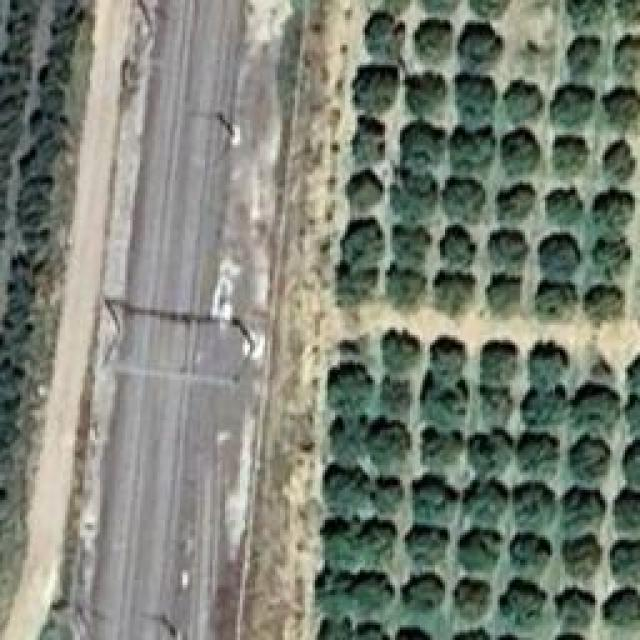Tree: (460, 478, 507, 526), (355, 63, 401, 112), (395, 120, 442, 167), (460, 23, 505, 72), (450, 125, 495, 174), (555, 87, 601, 134), (422, 377, 467, 424), (362, 12, 407, 58), (340, 222, 385, 268), (443, 178, 483, 229), (325, 518, 366, 567), (330, 415, 370, 465), (408, 523, 449, 571), (393, 170, 436, 215), (407, 478, 452, 521), (500, 130, 542, 176), (415, 15, 452, 66), (333, 267, 374, 313), (460, 527, 500, 574), (370, 423, 413, 466), (597, 184, 640, 227), (503, 80, 545, 124), (435, 230, 477, 273), (380, 330, 423, 372), (350, 112, 388, 159), (368, 472, 406, 519), (478, 338, 520, 380), (593, 237, 632, 282), (328, 468, 368, 511), (435, 273, 474, 317), (455, 75, 491, 122), (328, 368, 369, 409), (386, 223, 428, 263), (353, 573, 392, 616), (385, 268, 426, 308), (540, 235, 581, 275), (428, 338, 469, 378), (408, 73, 447, 115), (483, 275, 522, 317), (538, 280, 577, 322), (573, 385, 615, 424), (518, 483, 556, 526), (498, 183, 538, 223), (528, 345, 568, 385), (505, 585, 544, 626), (473, 433, 511, 475), (520, 433, 557, 476), (565, 485, 601, 529), (403, 575, 443, 614), (313, 575, 352, 615), (568, 430, 607, 470), (365, 525, 400, 569), (453, 578, 488, 622), (607, 87, 640, 133), (563, 538, 600, 579), (608, 540, 640, 587), (568, 35, 606, 74), (523, 390, 562, 428), (345, 173, 384, 210), (545, 190, 584, 227), (513, 535, 550, 573), (490, 228, 526, 267), (605, 590, 640, 630), (478, 383, 512, 424), (552, 140, 586, 180), (603, 143, 640, 179), (380, 378, 414, 417), (590, 285, 624, 324), (425, 433, 462, 468), (615, 32, 640, 80), (557, 590, 589, 625), (320, 615, 355, 640), (615, 495, 640, 530), (570, 0, 604, 23), (470, 0, 510, 19), (393, 622, 433, 640), (620, 450, 640, 485), (623, 400, 640, 433), (357, 625, 389, 640), (455, 627, 485, 640)
